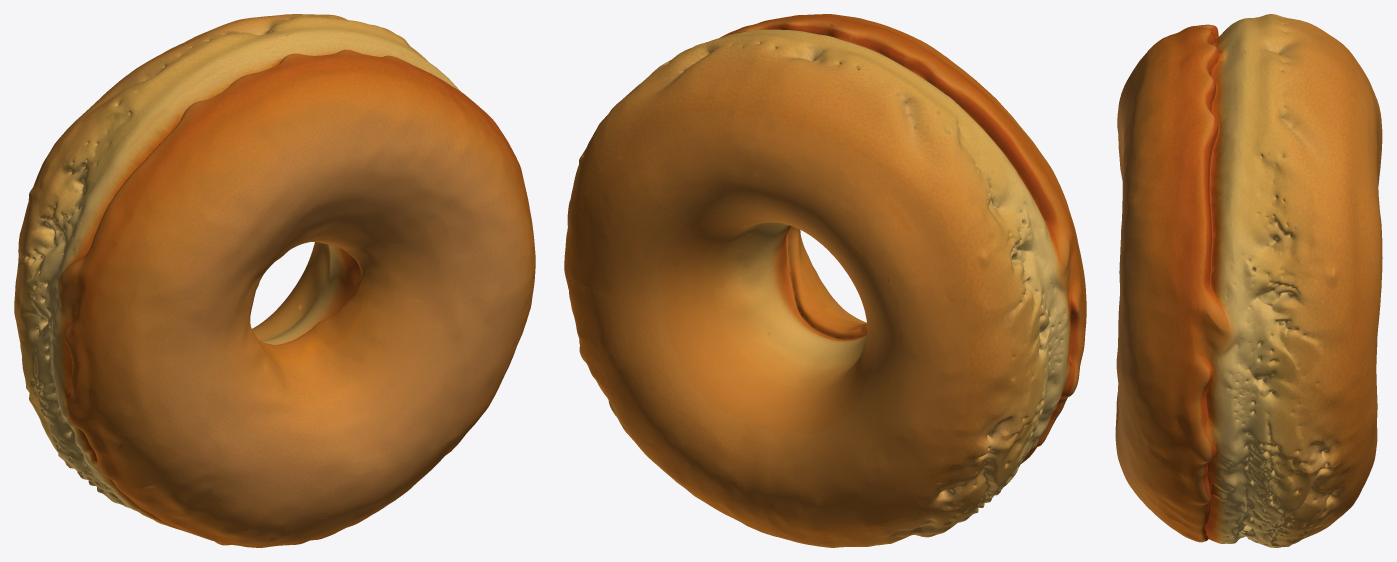
File: donut-happy.glb
The picture shows the model from 3 angles, left to right: view 1: azimuth 30°, elevation 25°; view 2: azimuth 150°, elevation 25°; view 3: azimuth 270°, elevation 25°; orthographic projection. The views are drawn at different scales.
Parts seen in each view (by area): view 1: tripo_node_0af7e3c5-405b-4bee-a386-6807244407df; view 2: tripo_node_0af7e3c5-405b-4bee-a386-6807244407df; view 3: tripo_node_0af7e3c5-405b-4bee-a386-6807244407df.
Part boxes in pixels (<box>): tripo_node_0af7e3c5-405b-4bee-a386-6807244407df: <box>14,14,535,547</box>; tripo_node_0af7e3c5-405b-4bee-a386-6807244407df: <box>564,14,1086,547</box>; tripo_node_0af7e3c5-405b-4bee-a386-6807244407df: <box>1115,14,1382,547</box>.
Size of the model in its own units: 54.62 by 55 by 27.89.
1 material, 1 textured.
